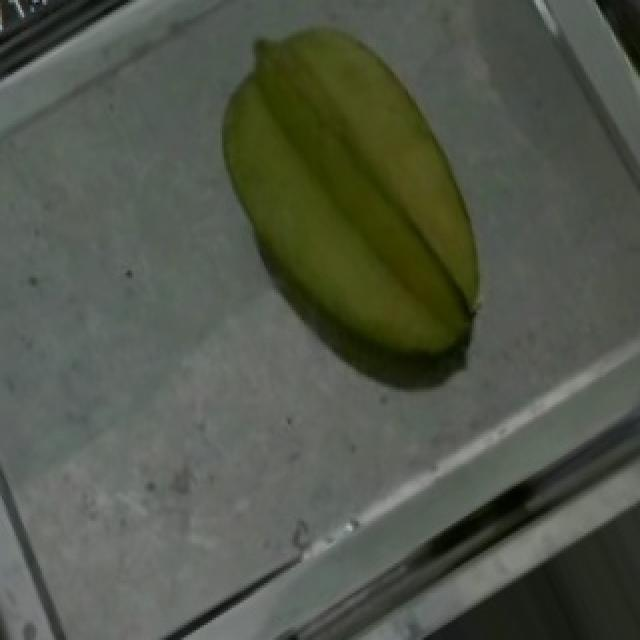fruit: (186, 7, 546, 392)
